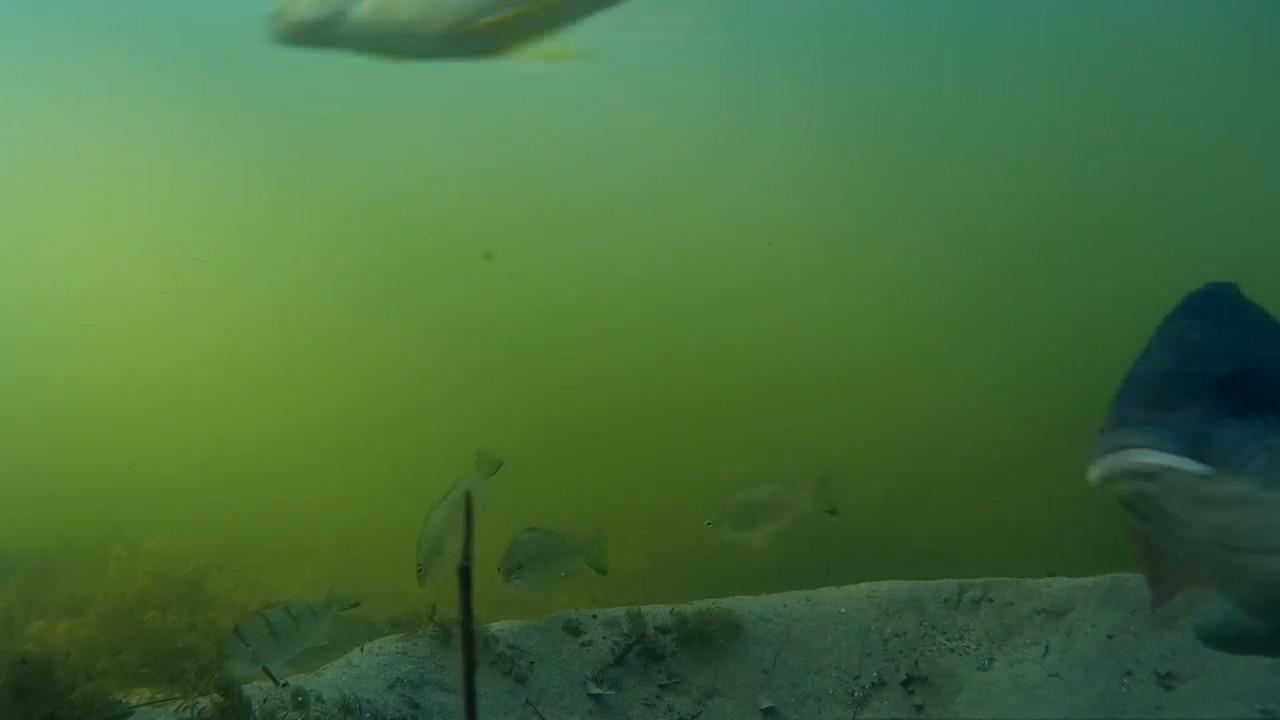Tilapia: (1076, 273, 1280, 541), (235, 583, 396, 702), (484, 518, 635, 630), (401, 444, 494, 602), (688, 474, 840, 549)
